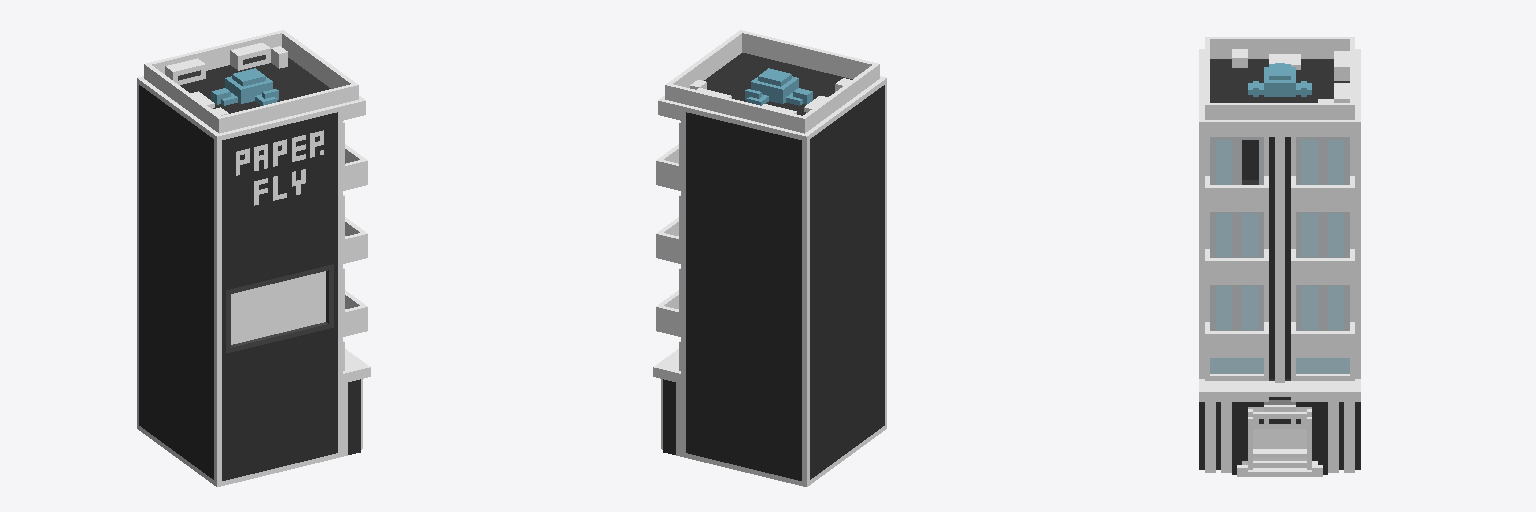
3 views of the same model, side by side, from view 1: azimuth 30°, elevation 25°; view 2: azimuth 150°, elevation 25°; view 3: azimuth 270°, elevation 25° (orthographic).
Bounding box in the file's own units: 34 × 75 × 30.
1 materials, 1 textured.